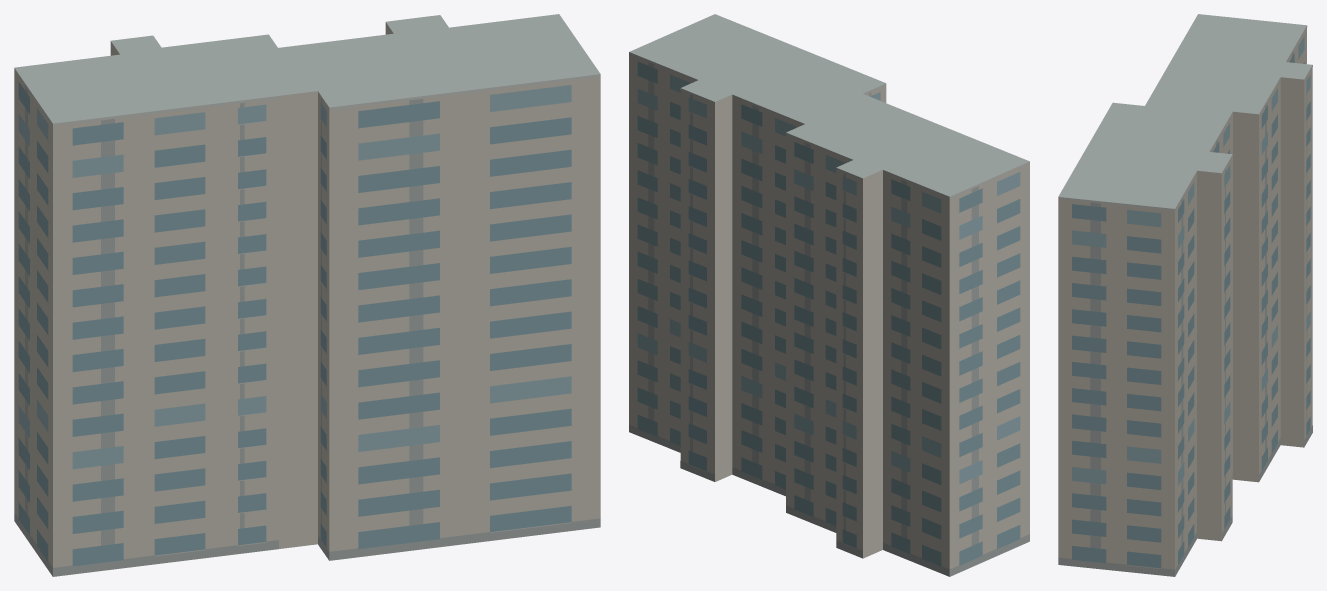
File: residential-50d09124-29b4-454c-be33-cf34f4621656.glb
3 views of the same model, side by side, from view 1: azimuth 30°, elevation 25°; view 2: azimuth 150°, elevation 25°; view 3: azimuth 270°, elevation 25° (orthographic). The views are drawn at different scales.
Visible parts, largest first — view 1: residential-50d09124-29b4-454c-be33-cf34f4621656.tmp; view 2: residential-50d09124-29b4-454c-be33-cf34f4621656.tmp; view 3: residential-50d09124-29b4-454c-be33-cf34f4621656.tmp.
Part boxes in pixels (<box>): residential-50d09124-29b4-454c-be33-cf34f4621656.tmp: <box>14,14,600,576</box>; residential-50d09124-29b4-454c-be33-cf34f4621656.tmp: <box>629,14,1029,576</box>; residential-50d09124-29b4-454c-be33-cf34f4621656.tmp: <box>1058,14,1312,576</box>.
Bounding box in the file's own units: 46.59 × 41 × 25.72.
